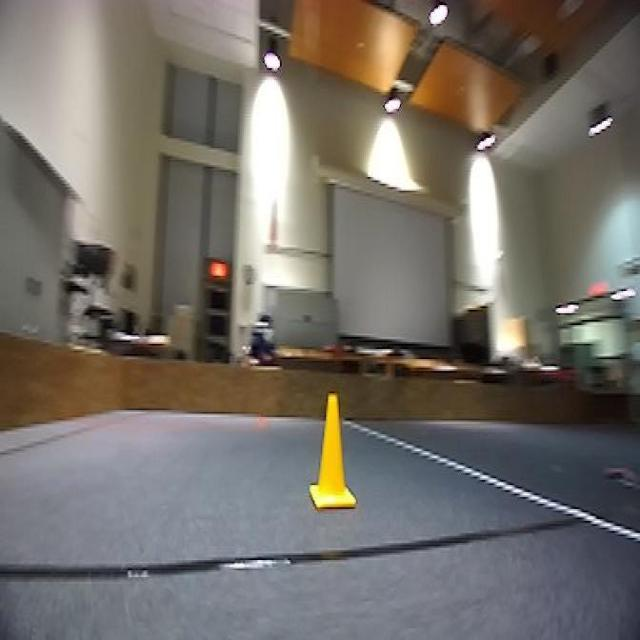frc_cone: (310, 388, 357, 516)
